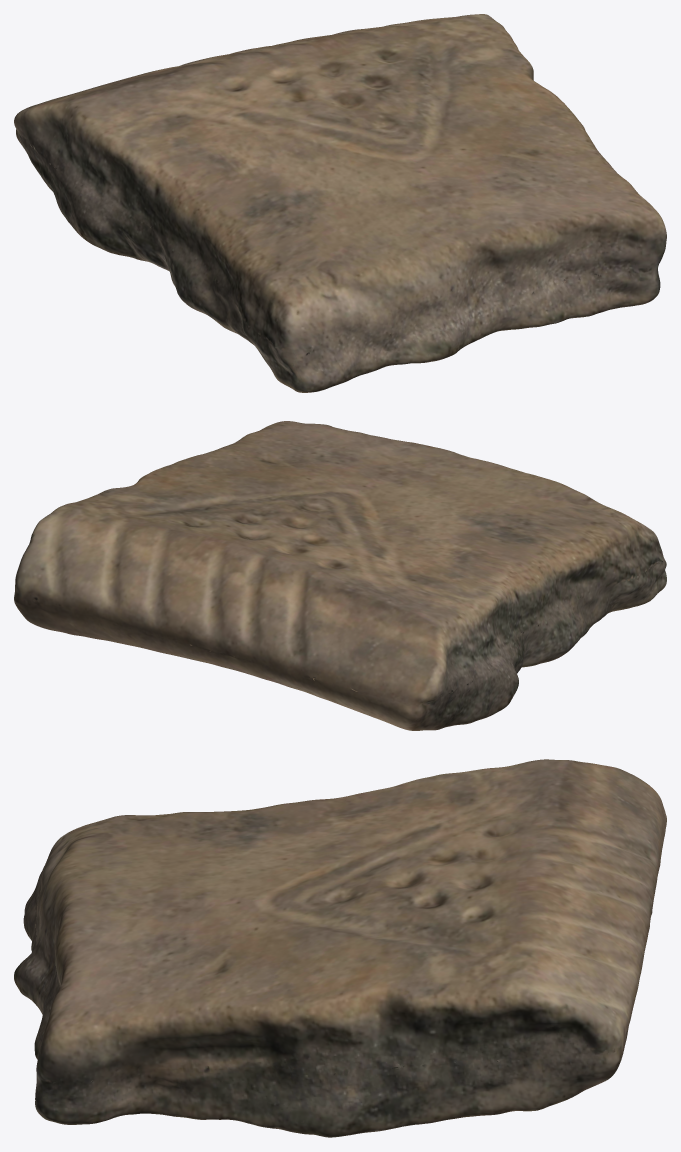
The model's file is fragmento-ceramica-indigena.glb.
The picture shows the model from 3 angles, top to bottom: view 1: azimuth 30°, elevation 25°; view 2: azimuth 150°, elevation 25°; view 3: azimuth 270°, elevation 25°; orthographic projection. The views are drawn at different scales.
Parts seen in each view (by area): view 1: fotogrametria; view 2: fotogrametria; view 3: fotogrametria.
Boxes of the visible parts, <box> form: fotogrametria: <box>14,14,666,392</box>; fotogrametria: <box>14,421,666,730</box>; fotogrametria: <box>14,759,666,1137</box>.
Size of the model in its own units: 0.1374 by 0.043 by 0.1486.
Materials: 1 (1 with a texture image).
